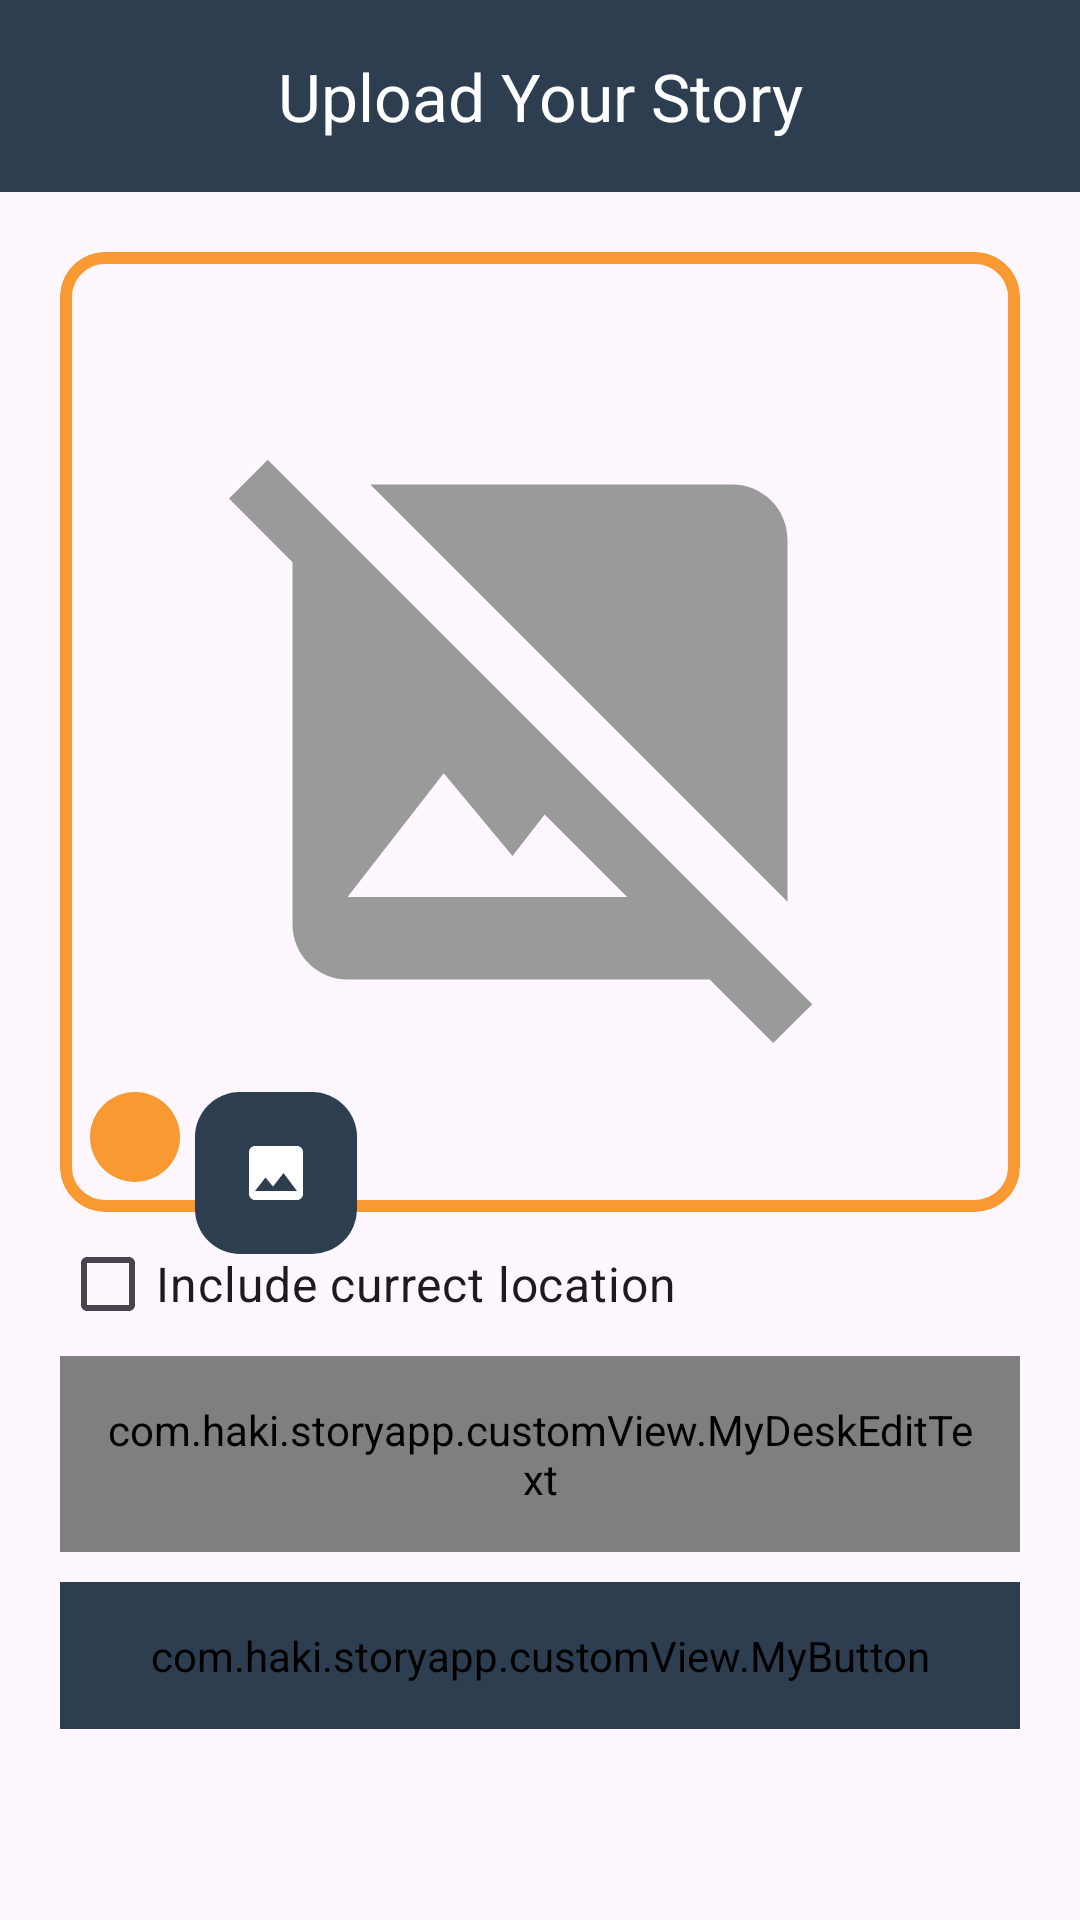

Locate icon controls on the screen. Image size 1080px x 1920px, boxes as (x1, y1, x2, y2).
add from gallery: (195, 1092, 357, 1254)
